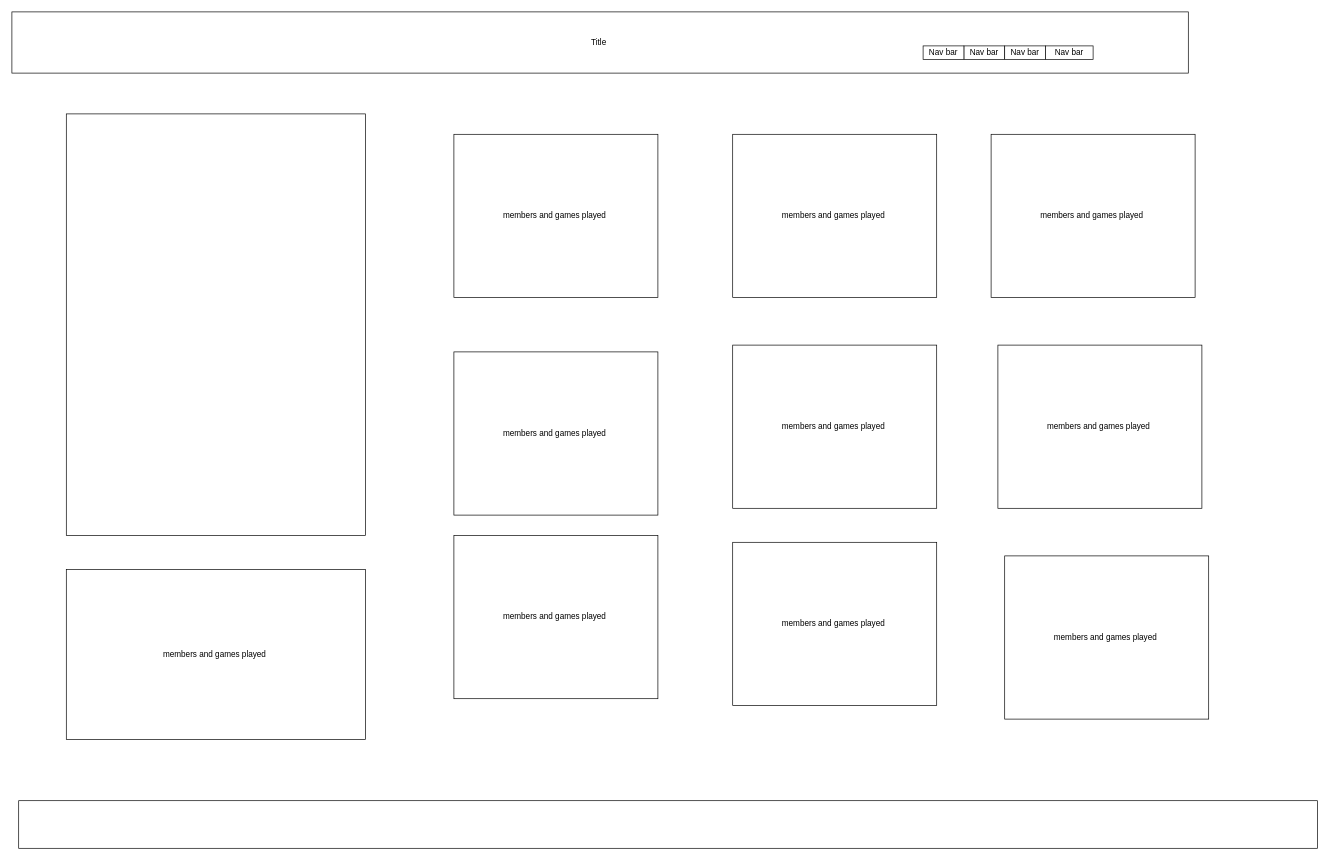
Some shapes in this 1329 by 860 pixel diagram are drawn without their labels. The shapes that lost their labels are listed below. From the top down, each one's centre as x and y in pixels, then its label:
At (216,324): "submit form to join newsletter and find a game to learn/play".
At (668,824): "footer".
